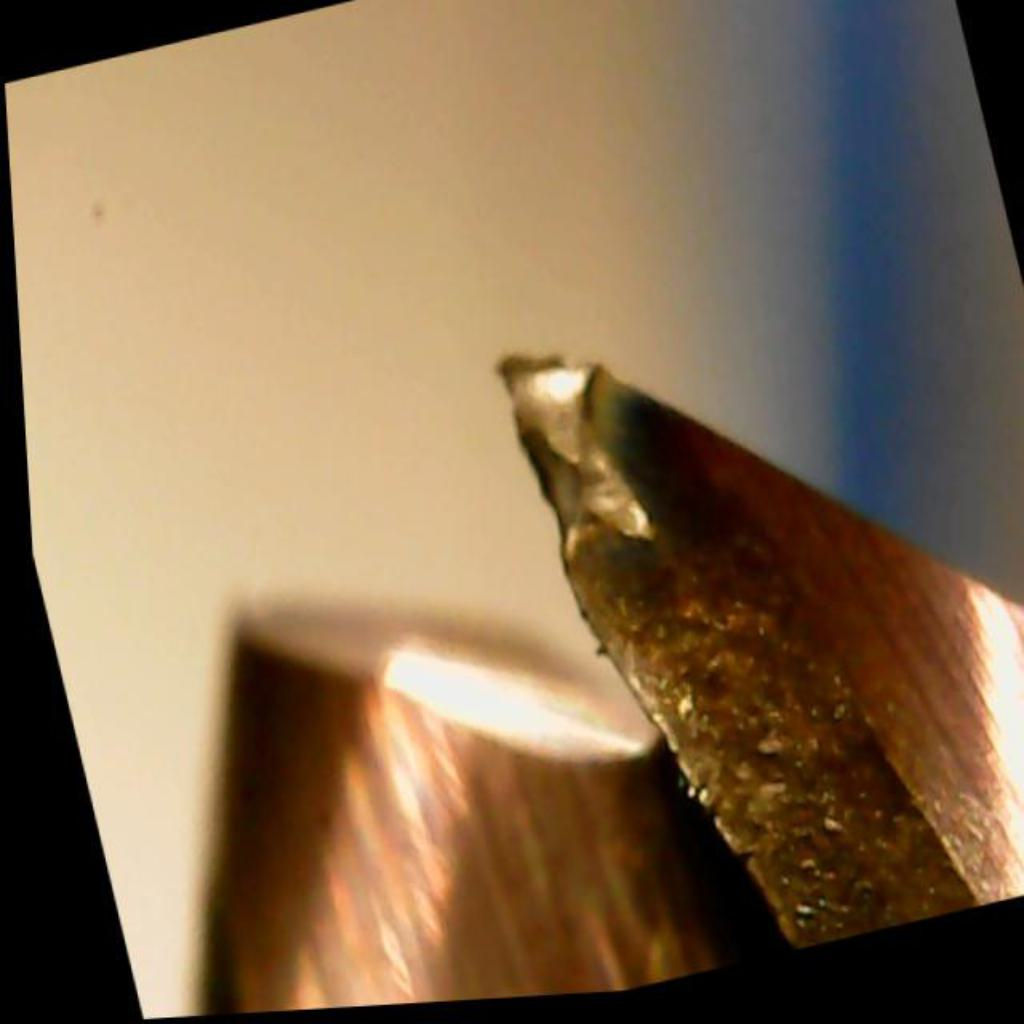Tool-wear-class-2: (461, 280, 892, 930)
